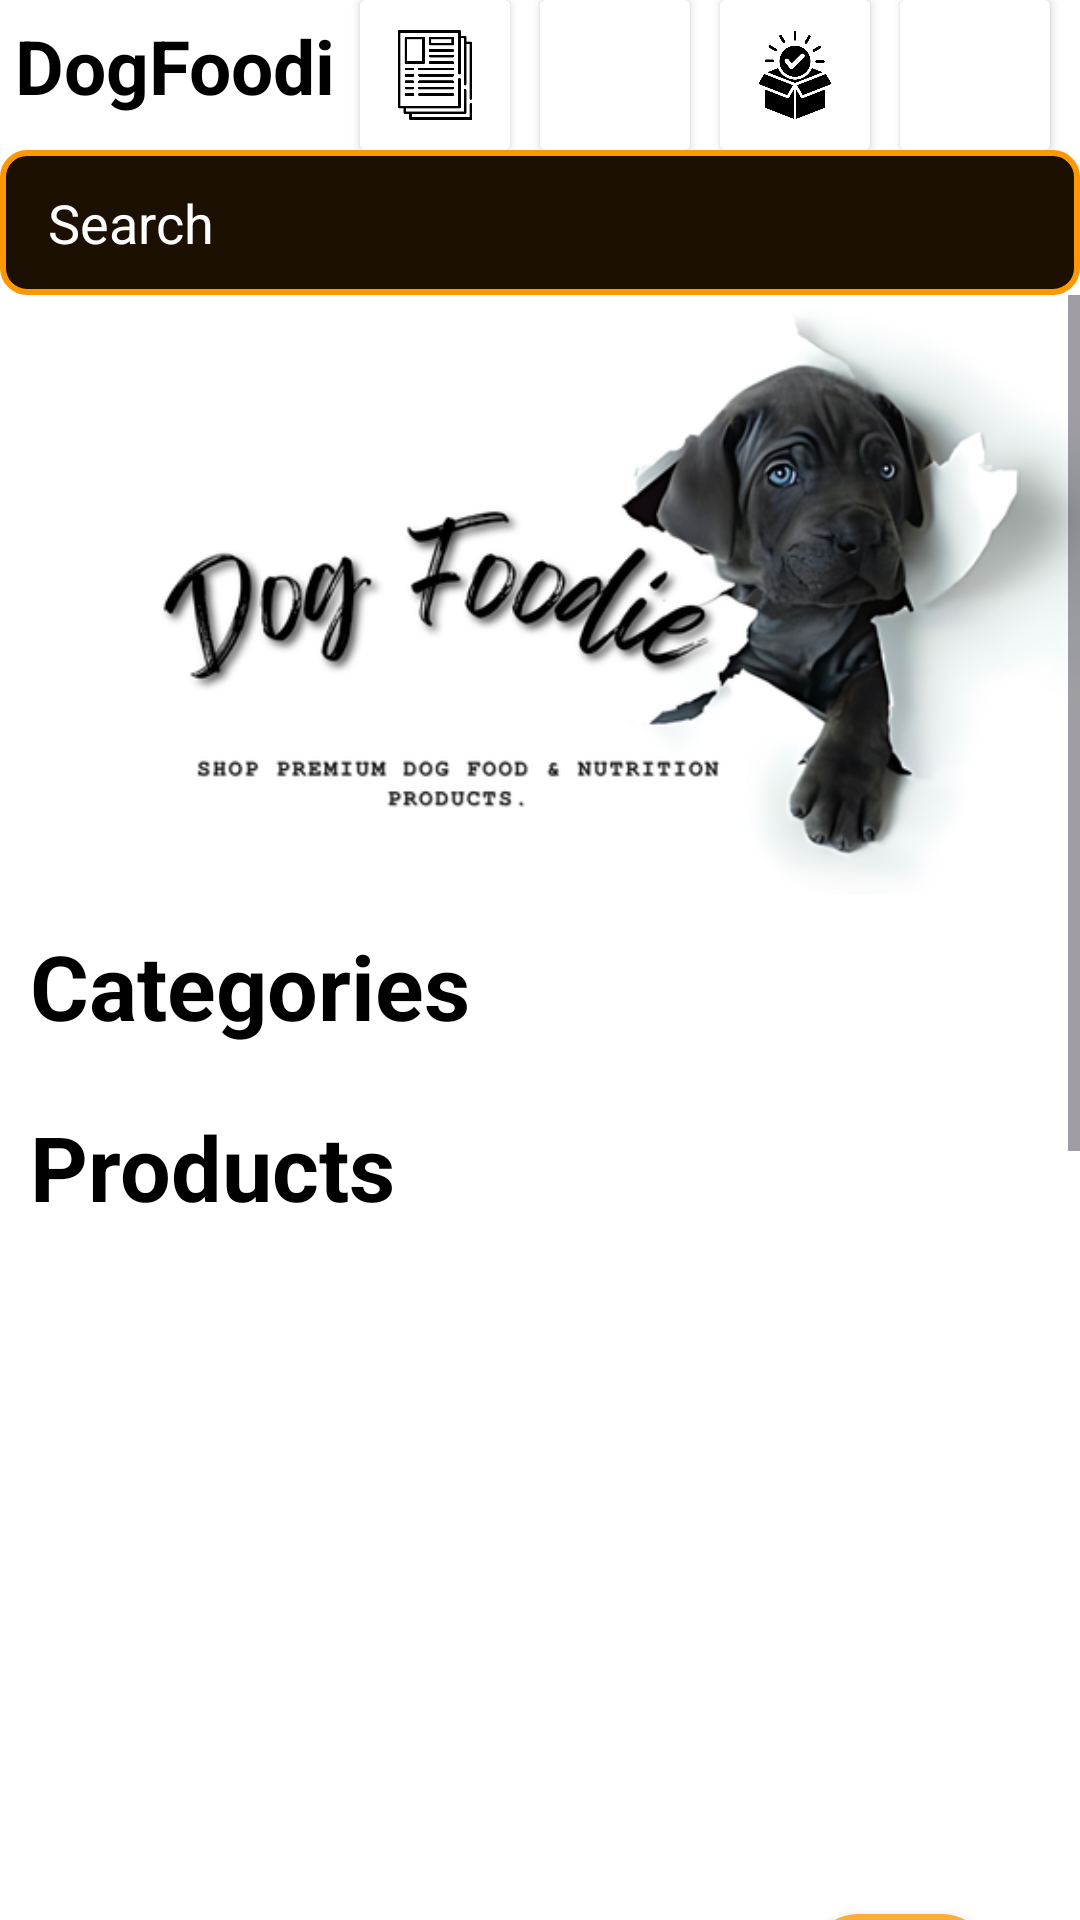

Icons on this 1080px×1920px Android screen, each with the point to tap as point (x, y):
article: point (435, 75)
ohistory: point (795, 75)
